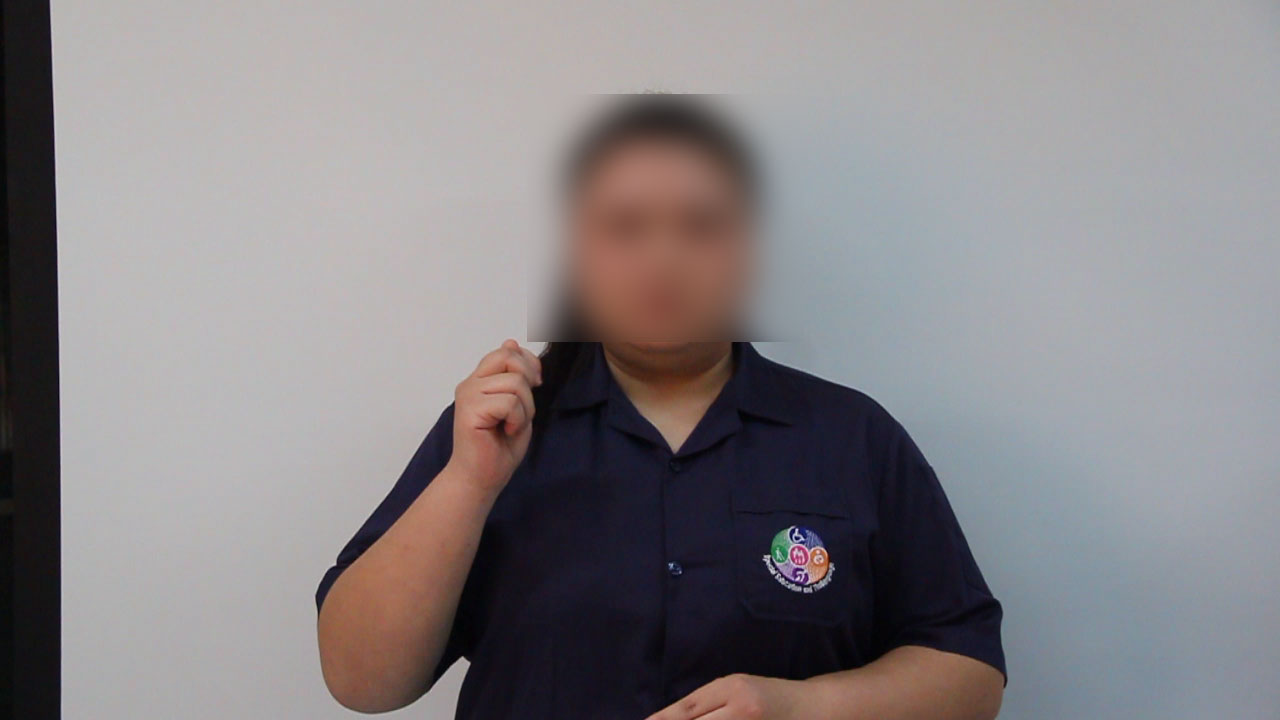tor: (440, 326, 574, 496)
